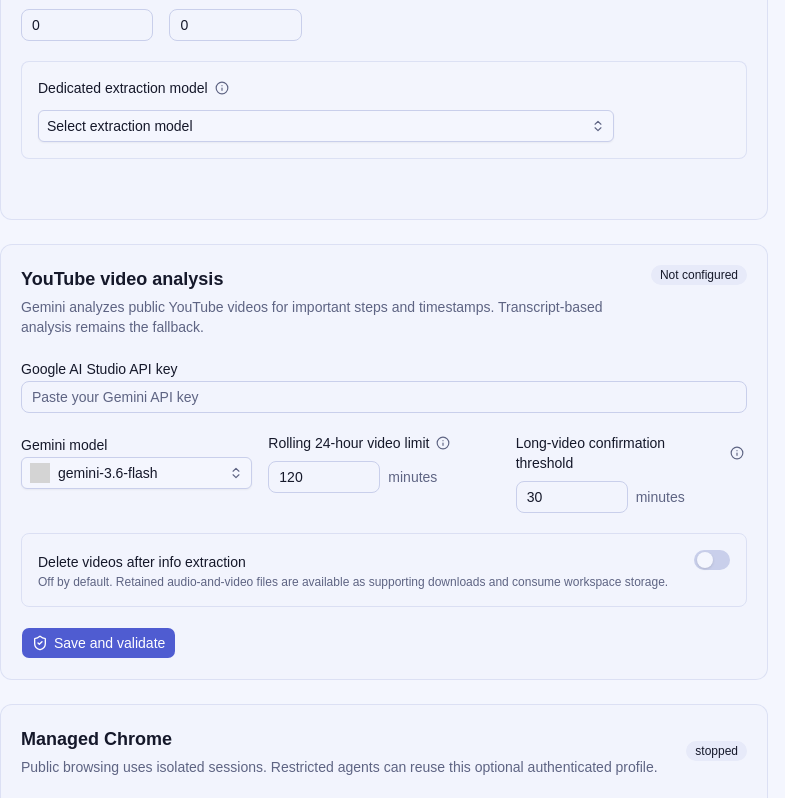
Scenario: saves and validates a masked Gemini key with rolling-budget controls
(page scrolled)
Expected: the text "gemini-3.6-flash" is shown, x1=58 y1=464 x2=158 y2=480
Expected: the number field labelled "Rolling 24-hour video limit" holds "120", x1=268 y1=460 x2=380 y2=492
Type "saved-gemini-key" into the password field labelled "Google AI Studio API key". click: (384, 396)
box: x1=21 y1=380 x2=747 y2=412
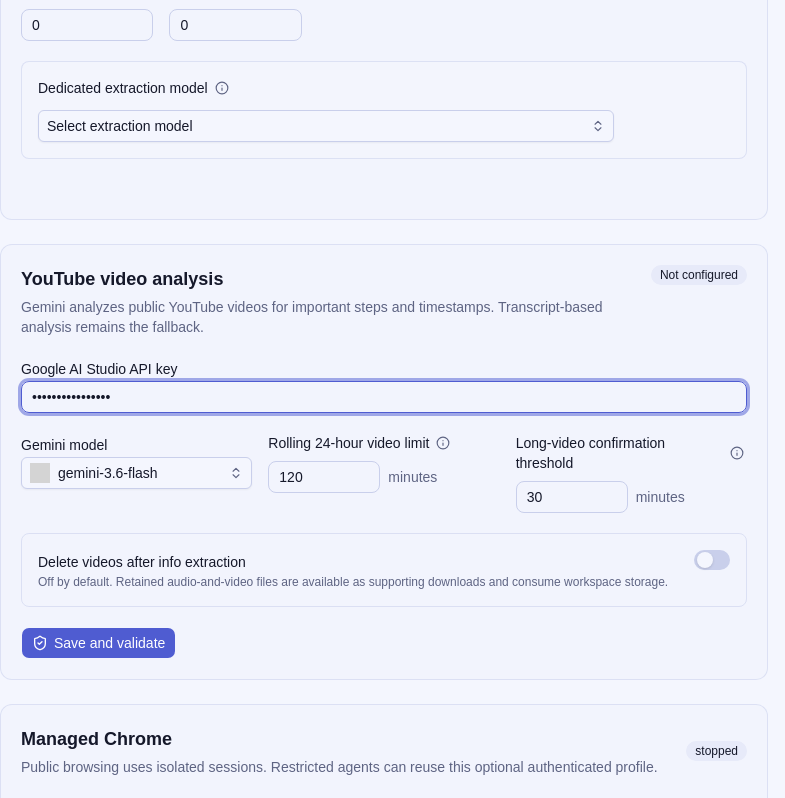
Click the button "Save and validate". click: click(99, 642)
box: x1=21 y1=626 x2=176 y2=658
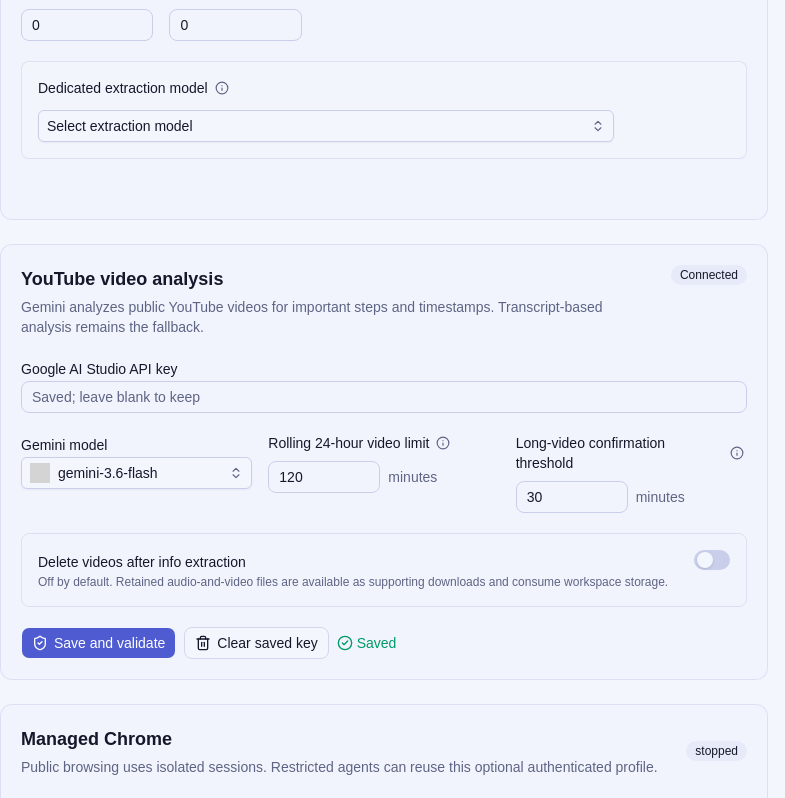
Expected: the text "Connected" is shown, x1=671 y1=264 x2=747 y2=284
Expected: the password field labelled "Google AI Studio API key" is empty, x1=21 y1=380 x2=747 y2=412
